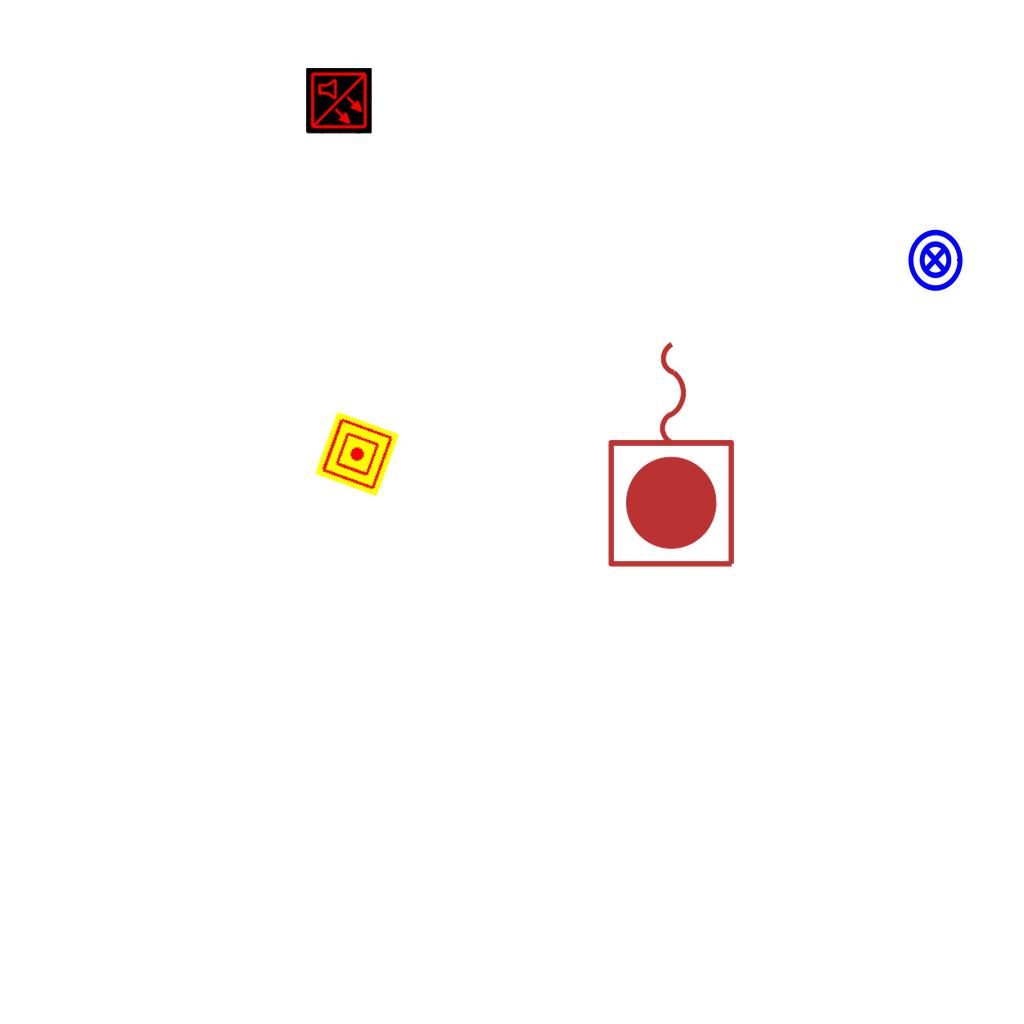NAM-Nichtautomatischer_Melder: (314, 411, 400, 497)
OKW_Multisensormelder_(Kombination_optischer_Rauch-Kahlenmonoxid_Waerme-Melder): (306, 68, 372, 134)
Taster_beleuchtet: (902, 227, 968, 293)
Zugtaster: (601, 331, 745, 575)
